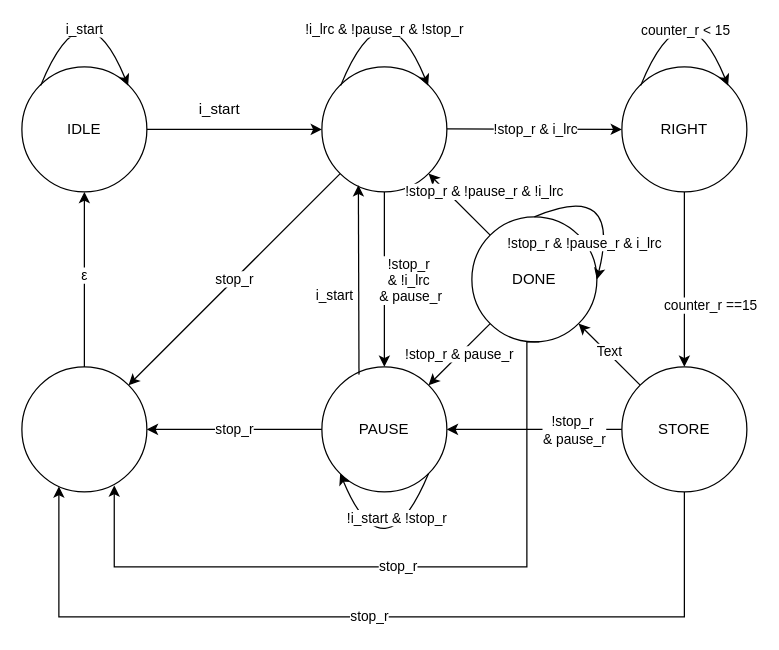
Image size: 779x650. Some labels were removed from this diagram. The box of each missing label's shape, as (x1, y1, x2, y2) in pixels:
STOP: (21, 366, 147, 492)
WAIT: (321, 66, 447, 192)
